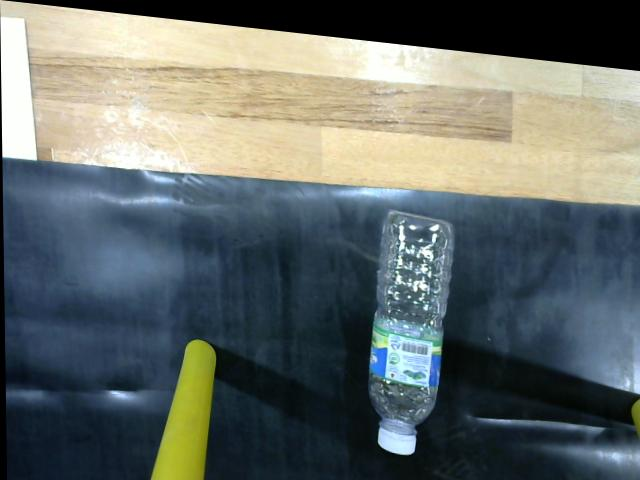bottle: (356, 190, 461, 458)
